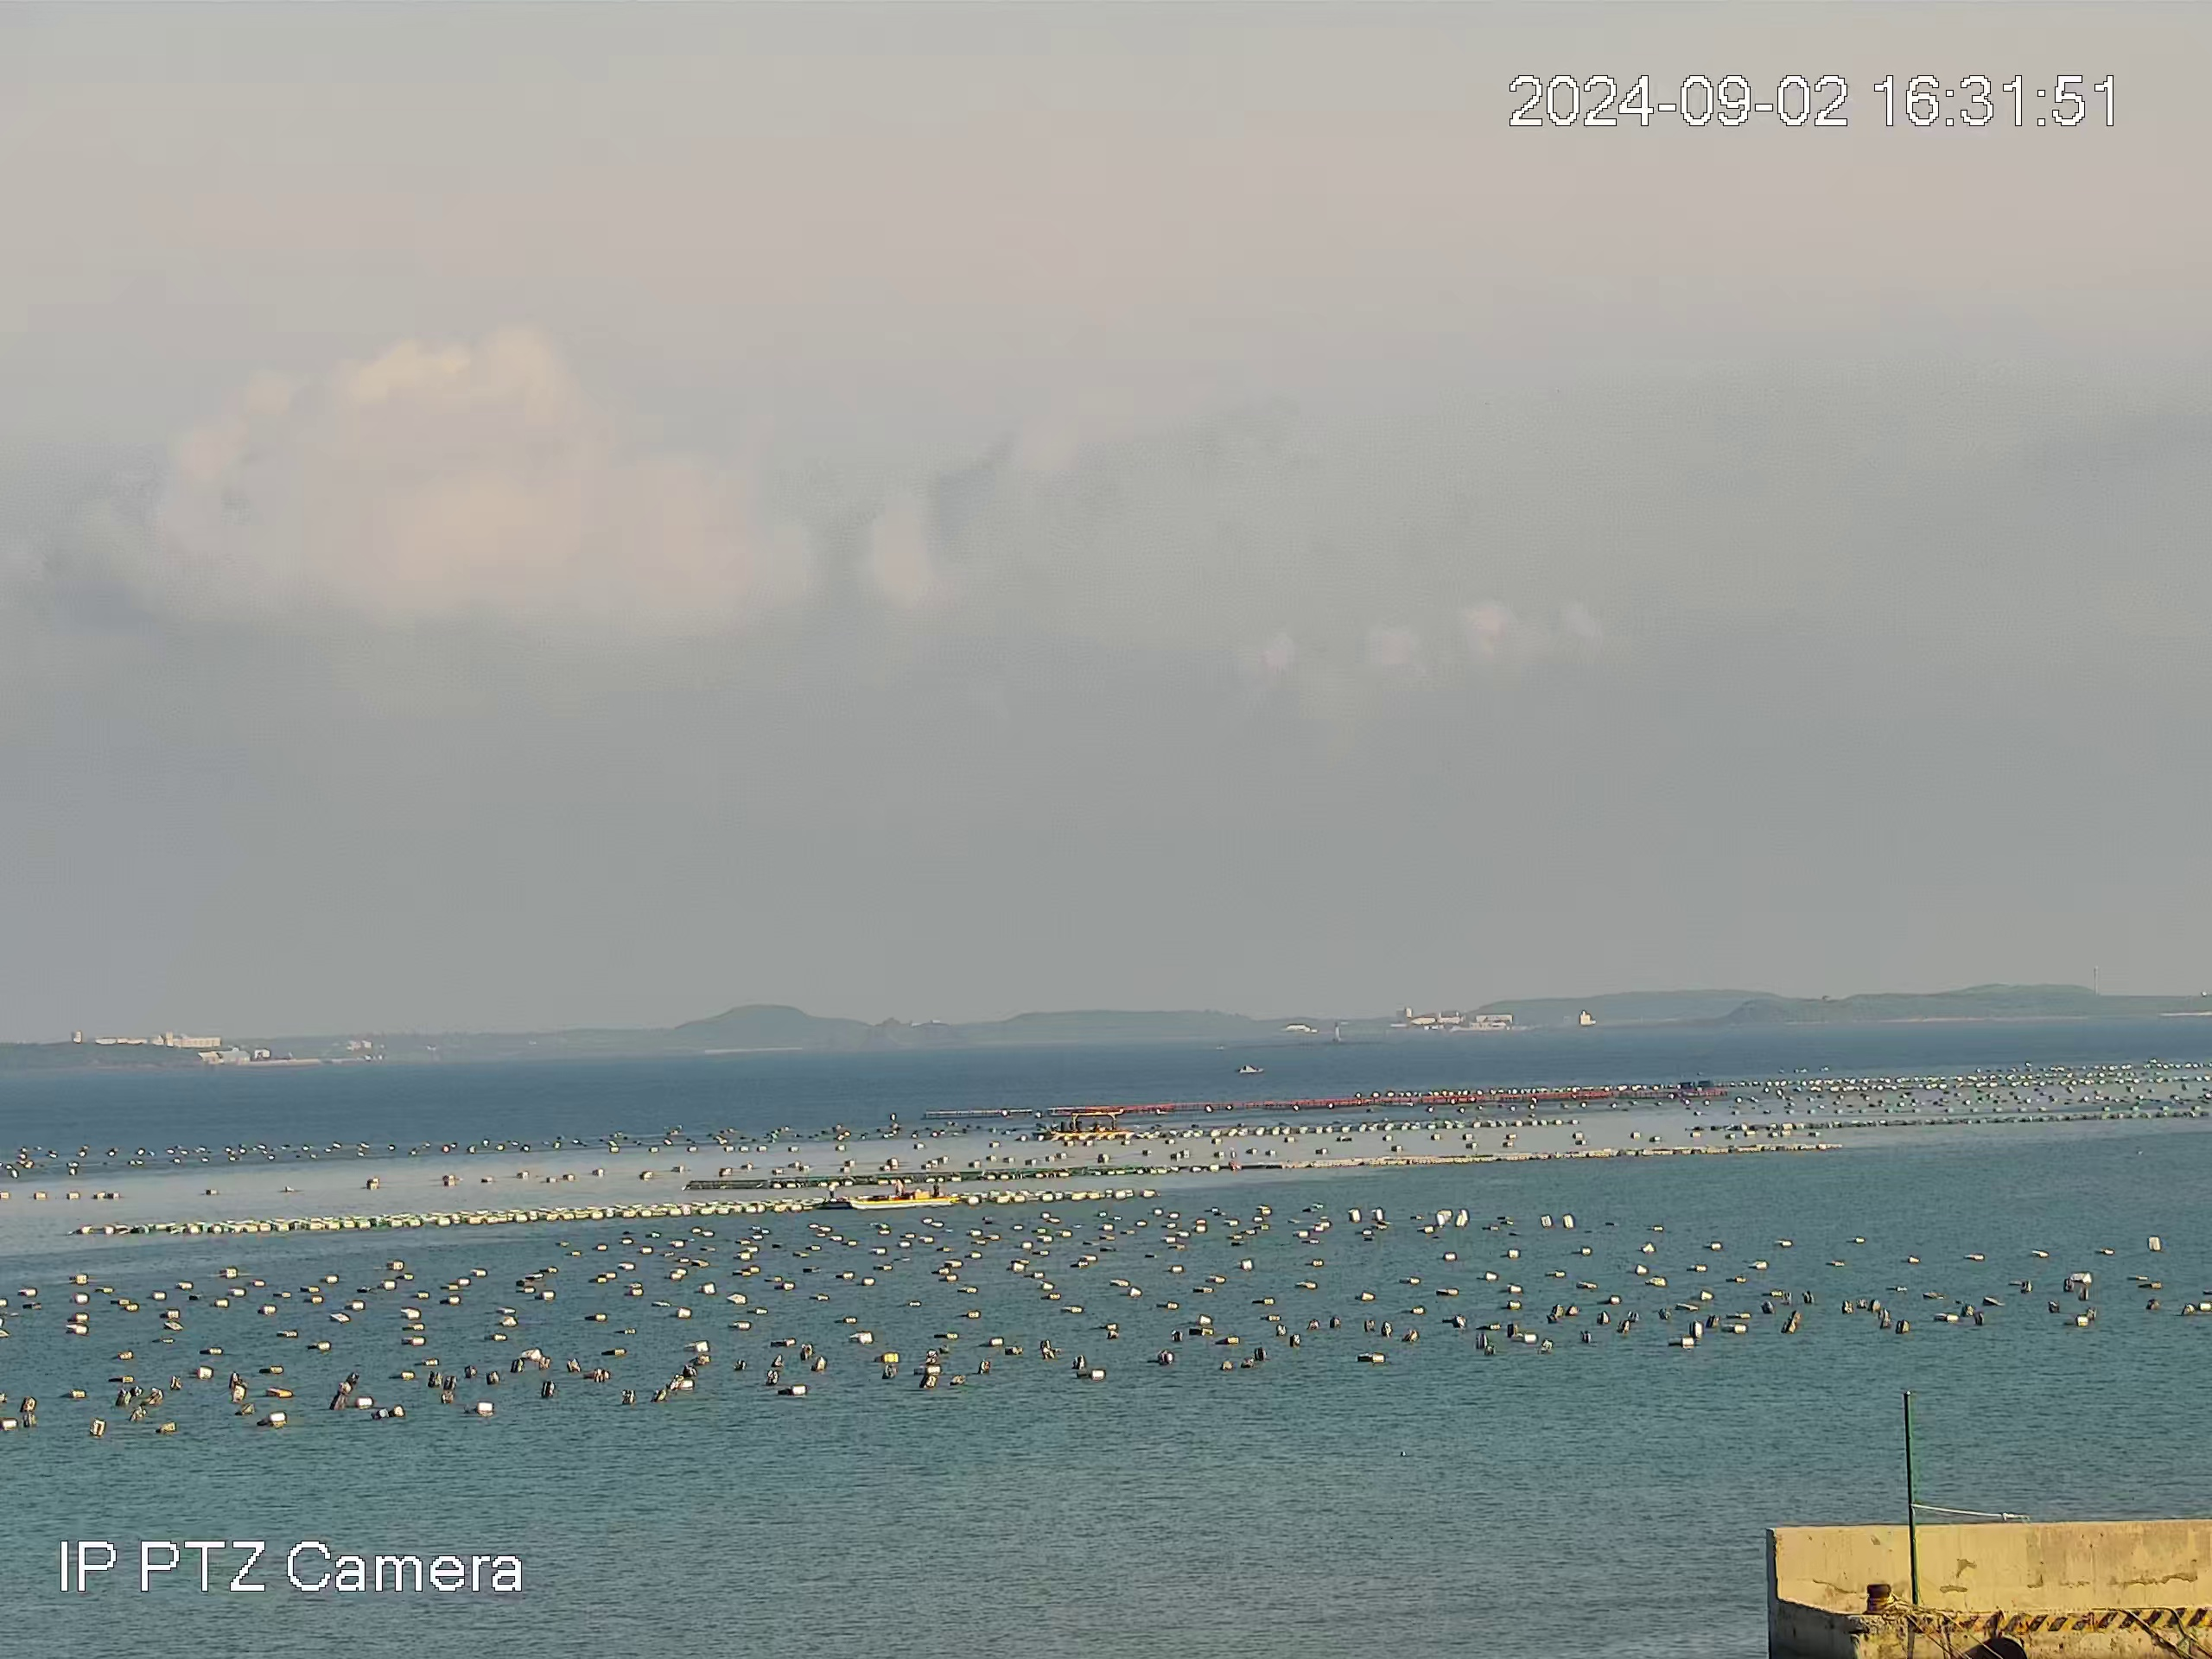boat: (842, 1177, 960, 1211), (1067, 1108, 1130, 1136), (1237, 1063, 1265, 1074)
